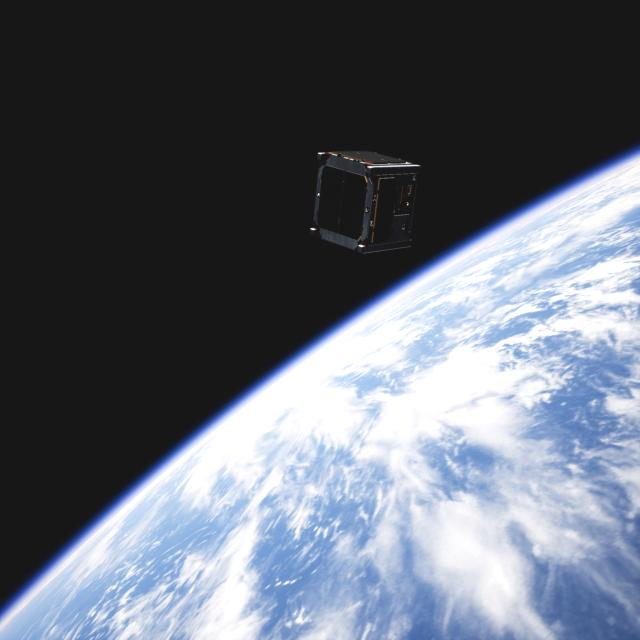satellite: (299, 142, 418, 264)
